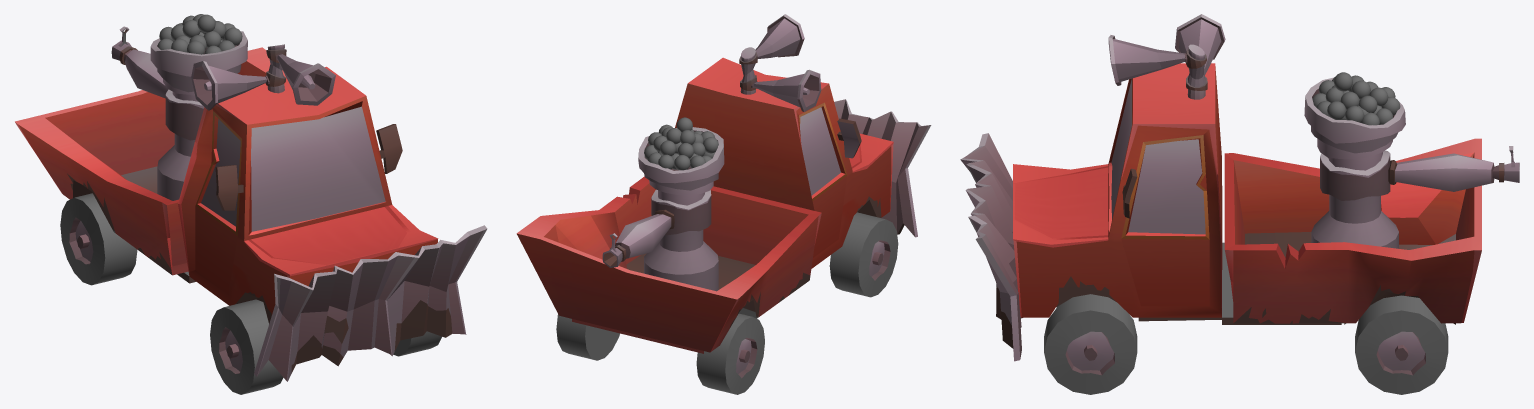
Rendered from Camion_bandit_Tourelle.fbx.
3 renders of one model, left to right at view 1: azimuth 30°, elevation 25°; view 2: azimuth 150°, elevation 25°; view 3: azimuth 270°, elevation 25°, orthographic. The views are drawn at different scales.
Parts seen in each view (by area): view 1: Cabine, Taule, Benne, Cylinder, Portiere_droite, Tyre_F_L.002, Tyre_F_L.006, Haut-parleurs, Tyre_F_L.003; view 2: Benne, Cabine, Cylinder, Portiere_droite, Tyre_F_L.002, Taule, Haut-parleurs, Tyre_F_L.006, Tyre_F_L.001; view 3: Benne, Cabine, Cylinder, Portiere_droite.001, Tyre_F_L.003, Tyre_F_L.001, Taule, Haut-parleurs.
Boxes of the visible parts, <box> form: Cabine: <box>177,66,438,323</box>; Taule: <box>254,225,487,381</box>; Benne: <box>15,47,286,275</box>; Cylinder: <box>111,14,247,200</box>; Portiere_droite: <box>195,111,241,293</box>; Tyre_F_L.002: <box>210,299,283,394</box>; Tyre_F_L.006: <box>60,193,137,285</box>; Haut-parleurs: <box>191,44,335,110</box>; Tyre_F_L.003: <box>393,331,441,356</box>; Benne: <box>516,176,821,353</box>; Cabine: <box>675,57,893,268</box>; Cylinder: <box>602,117,724,291</box>; Portiere_droite: <box>799,102,847,257</box>; Tyre_F_L.002: <box>829,212,898,297</box>; Taule: <box>834,99,931,237</box>; Haut-parleurs: <box>739,14,821,111</box>; Tyre_F_L.006: <box>696,313,764,394</box>; Tyre_F_L.001: <box>556,314,619,360</box>; Benne: <box>1224,138,1481,324</box>; Cabine: <box>1013,63,1341,324</box>; Cylinder: <box>1304,72,1519,248</box>; Portiere_droite.001: <box>1121,135,1209,306</box>; Tyre_F_L.003: <box>1044,294,1137,394</box>; Tyre_F_L.001: <box>1355,295,1448,394</box>; Taule: <box>960,133,1022,361</box>; Haut-parleurs: <box>1108,14,1225,99</box>.
Bounding box in the file's own units: 3.71 × 4.15 × 6.8.
